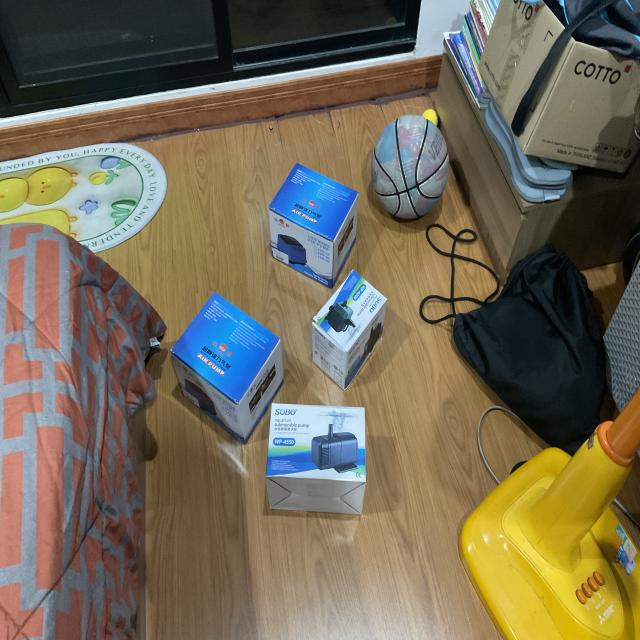SOBO_WP_4200: (260, 394, 388, 533), (308, 276, 402, 393)
YAMANO_LPP_20: (161, 275, 288, 440), (266, 148, 354, 289)
